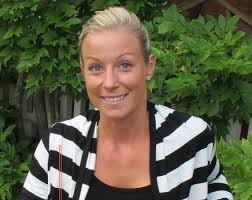middle_eastern_Female: (86, 20, 151, 115)
